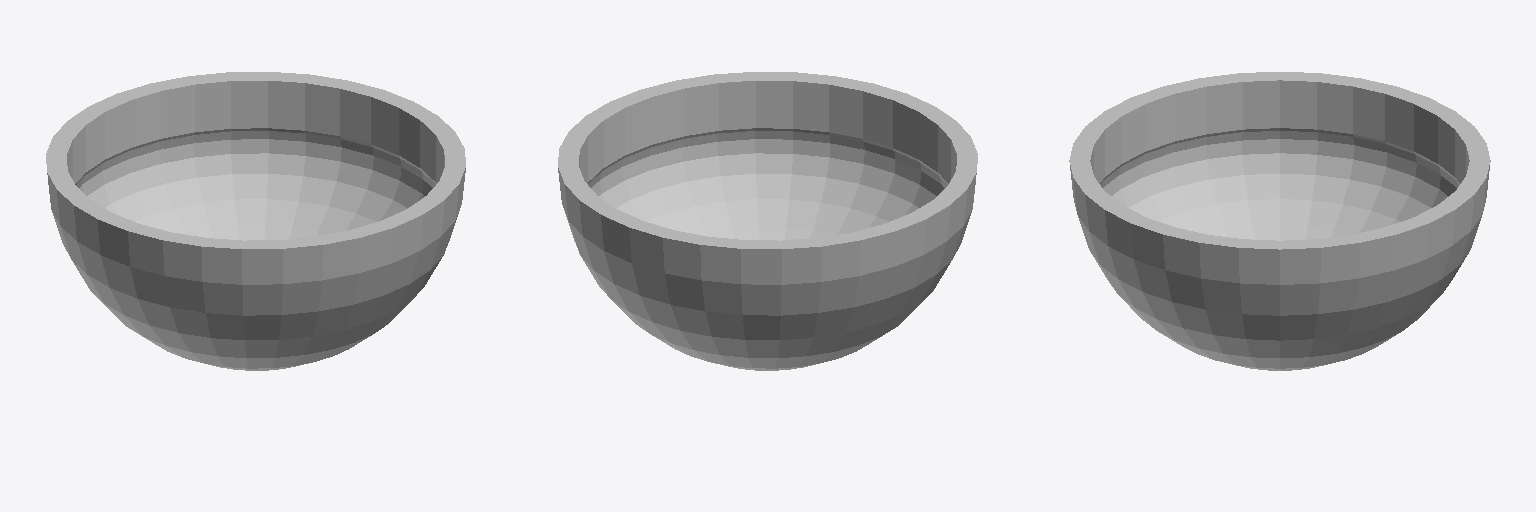
The model's file is bowl.obj.
3 renders of one model, left to right at view 1: azimuth 30°, elevation 25°; view 2: azimuth 150°, elevation 25°; view 3: azimuth 270°, elevation 25°, orthographic.
Parts seen in each view (by area): view 1: Cube; view 2: Cube; view 3: Cube.
Boxes of the visible parts, x1,y1,x2,y2 form: Cube: [46, 72, 465, 370]; Cube: [558, 72, 977, 370]; Cube: [1069, 72, 1490, 370].
Bounding box in the file's own units: 0.5 × 0.25 × 0.5.